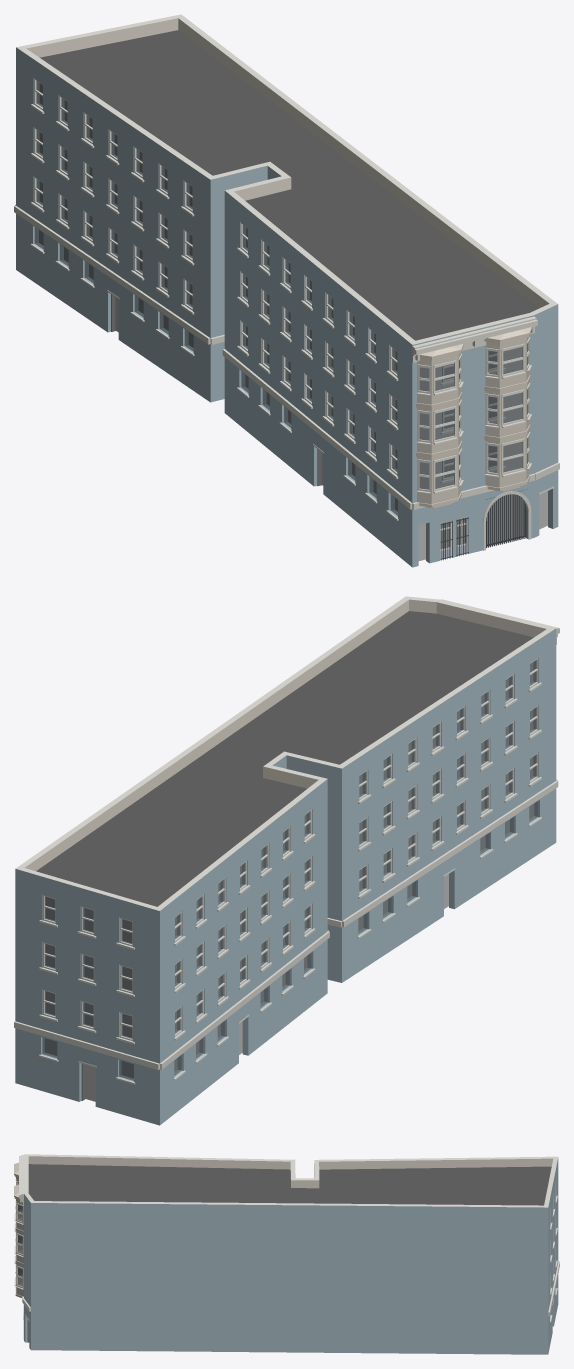
The model's file is exterior.glb.
3 views of the same model, one above another, from view 1: azimuth 30°, elevation 25°; view 2: azimuth 150°, elevation 25°; view 3: azimuth 270°, elevation 25° (orthographic). The views are drawn at different scales.
Visible parts, largest first — view 1: shell, roof, trim, glazing, bay-glazing-hyb, shadow-proxy, bay-windows-hyb, frames, storefront; view 2: shell, roof, glazing, trim, frames, shadow-proxy; view 3: shell, roof, bay-windows-hyb, bay-glazing-hyb, trim.
Part boxes in pixels (x1,y1,x2,y2): shell: (16, 14, 558, 567); roof: (40, 30, 539, 340); trim: (14, 104, 559, 520); glazing: (34, 81, 496, 549); bay-glazing-hyb: (417, 337, 531, 494); shadow-proxy: (39, 83, 547, 560); bay-windows-hyb: (416, 327, 531, 508); frames: (34, 78, 496, 480); storefront: (107, 290, 553, 560); shell: (15, 596, 556, 1125); roof: (36, 611, 533, 906); glazing: (42, 660, 537, 1080); trim: (14, 599, 559, 1084); frames: (42, 658, 538, 1040); shadow-proxy: (45, 662, 533, 1101); shell: (24, 1154, 558, 1354); roof: (28, 1164, 551, 1205); bay-windows-hyb: (14, 1162, 23, 1297); bay-glazing-hyb: (14, 1177, 23, 1289); trim: (19, 1155, 559, 1322).
Size of the model in its own units: 9.44 by 11.98 by 40.25.
